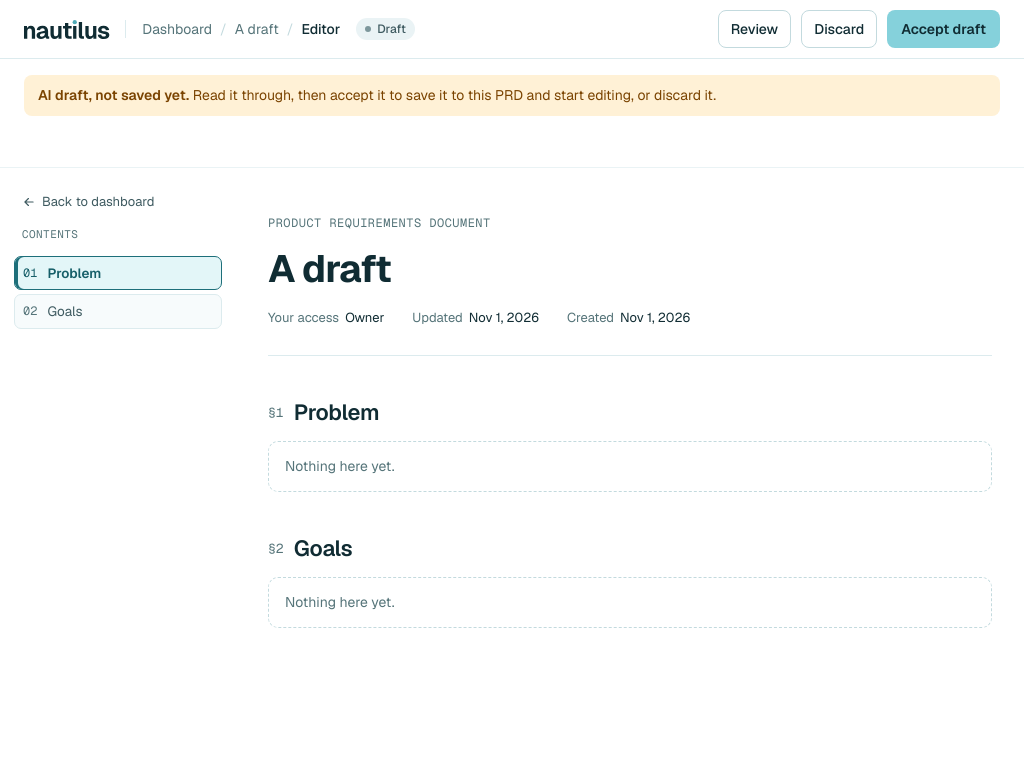
the AI draft preview › shows any other refusal, and stays on the draft
This screenshot has width=1024, height=768.
Click the button "Accept draft".
click(944, 29)  # box [887, 10, 1000, 48]
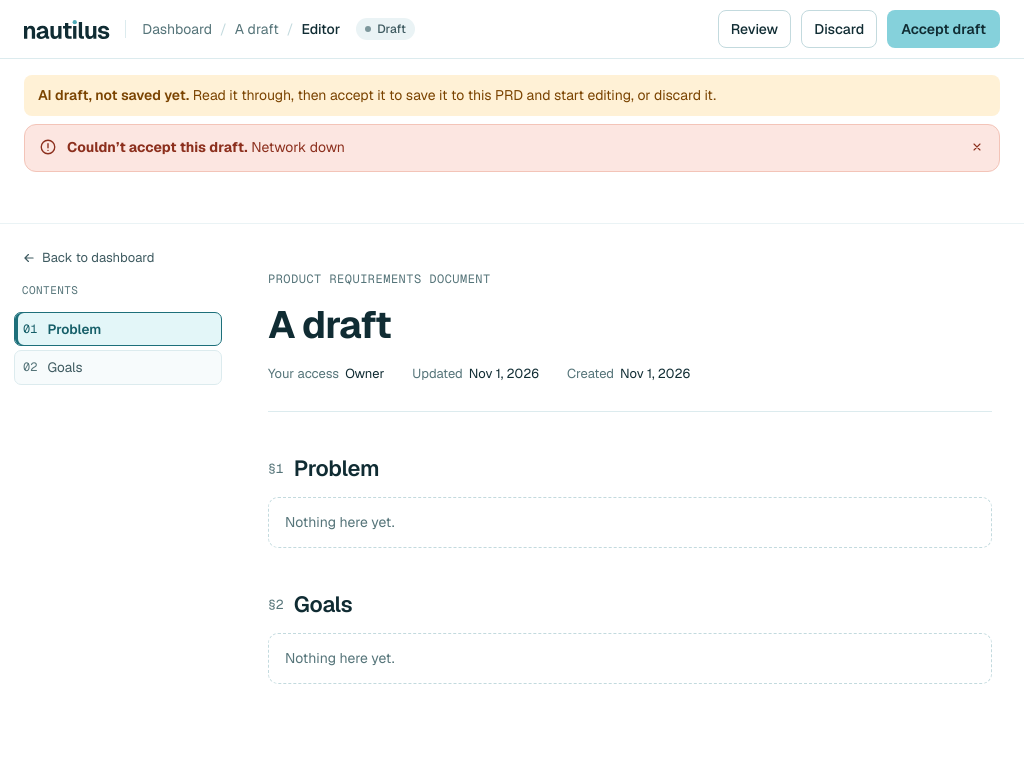
Expected: the text "AI draft, not saved yet." is shown, [38, 86, 189, 104]
Result: the text "Network down" is shown at [251, 138, 345, 156]
